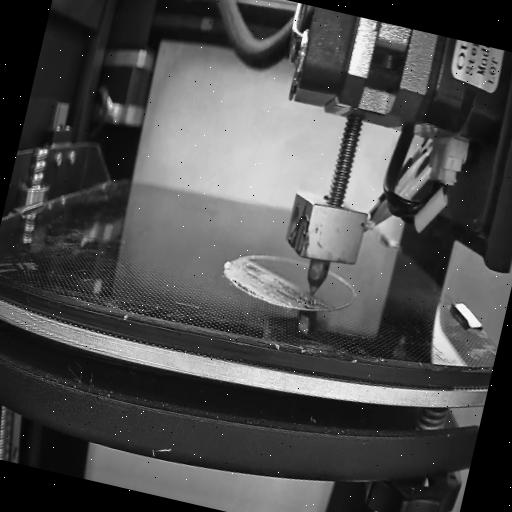under_extrusion: (269, 280, 324, 318), (226, 275, 270, 302), (236, 250, 273, 282)
